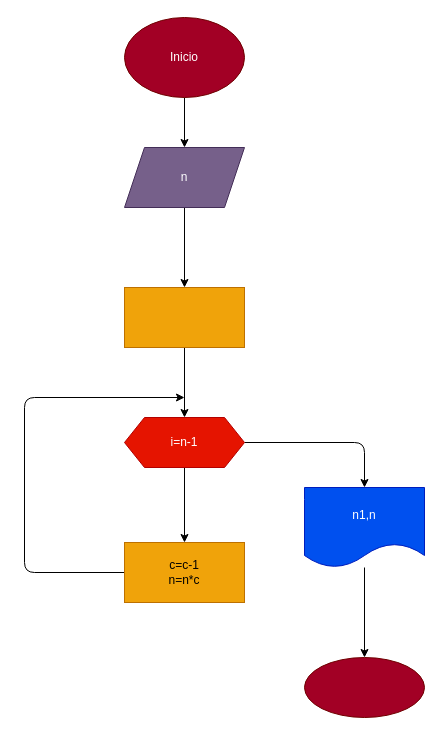
This 442x735 diagram has some shape labels left out. The centre of each missing label's shape, as x and y in pixels:
c=n n1=n: (184,317)
fin: (364,687)
